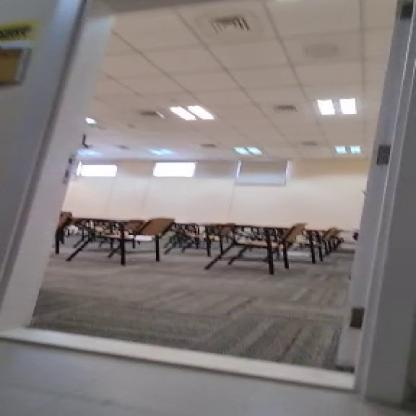open: (0, 0, 406, 408)
